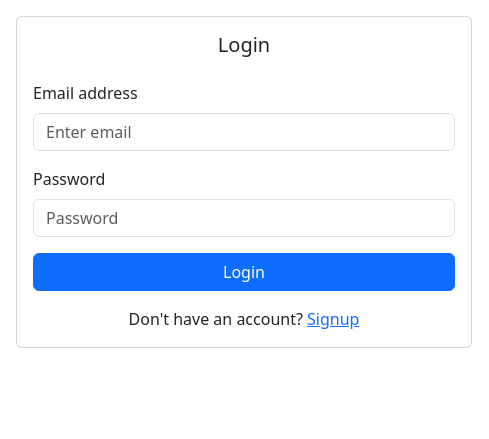
Test: LoginPage › handles failed login
The image size is (489, 439).
In the field labelled "Email address": (244, 132) [33,113,455,151], type "test@example.com"
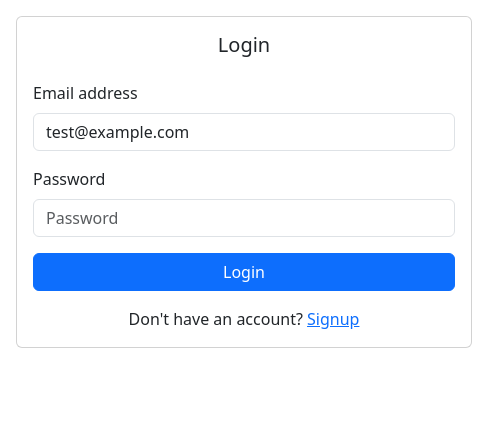
In the password field labelled "Password": (244, 218) [33,199,455,237], type "wrongpassword"
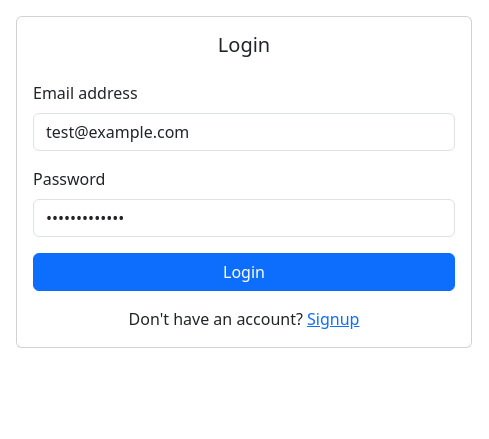
Click the button "Login": (244, 272) [33,253,455,291]
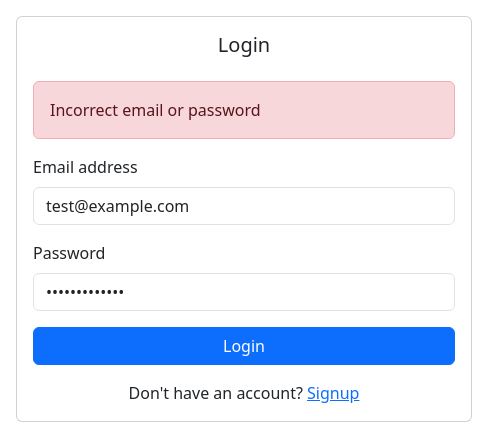
Now the text "Incorrect email or password" is shown, box [33,81,455,139]
